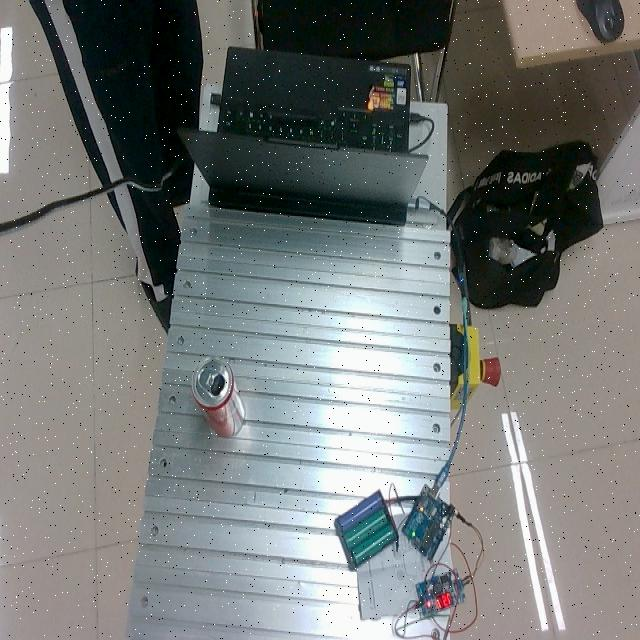coca: (192, 355, 247, 437)
